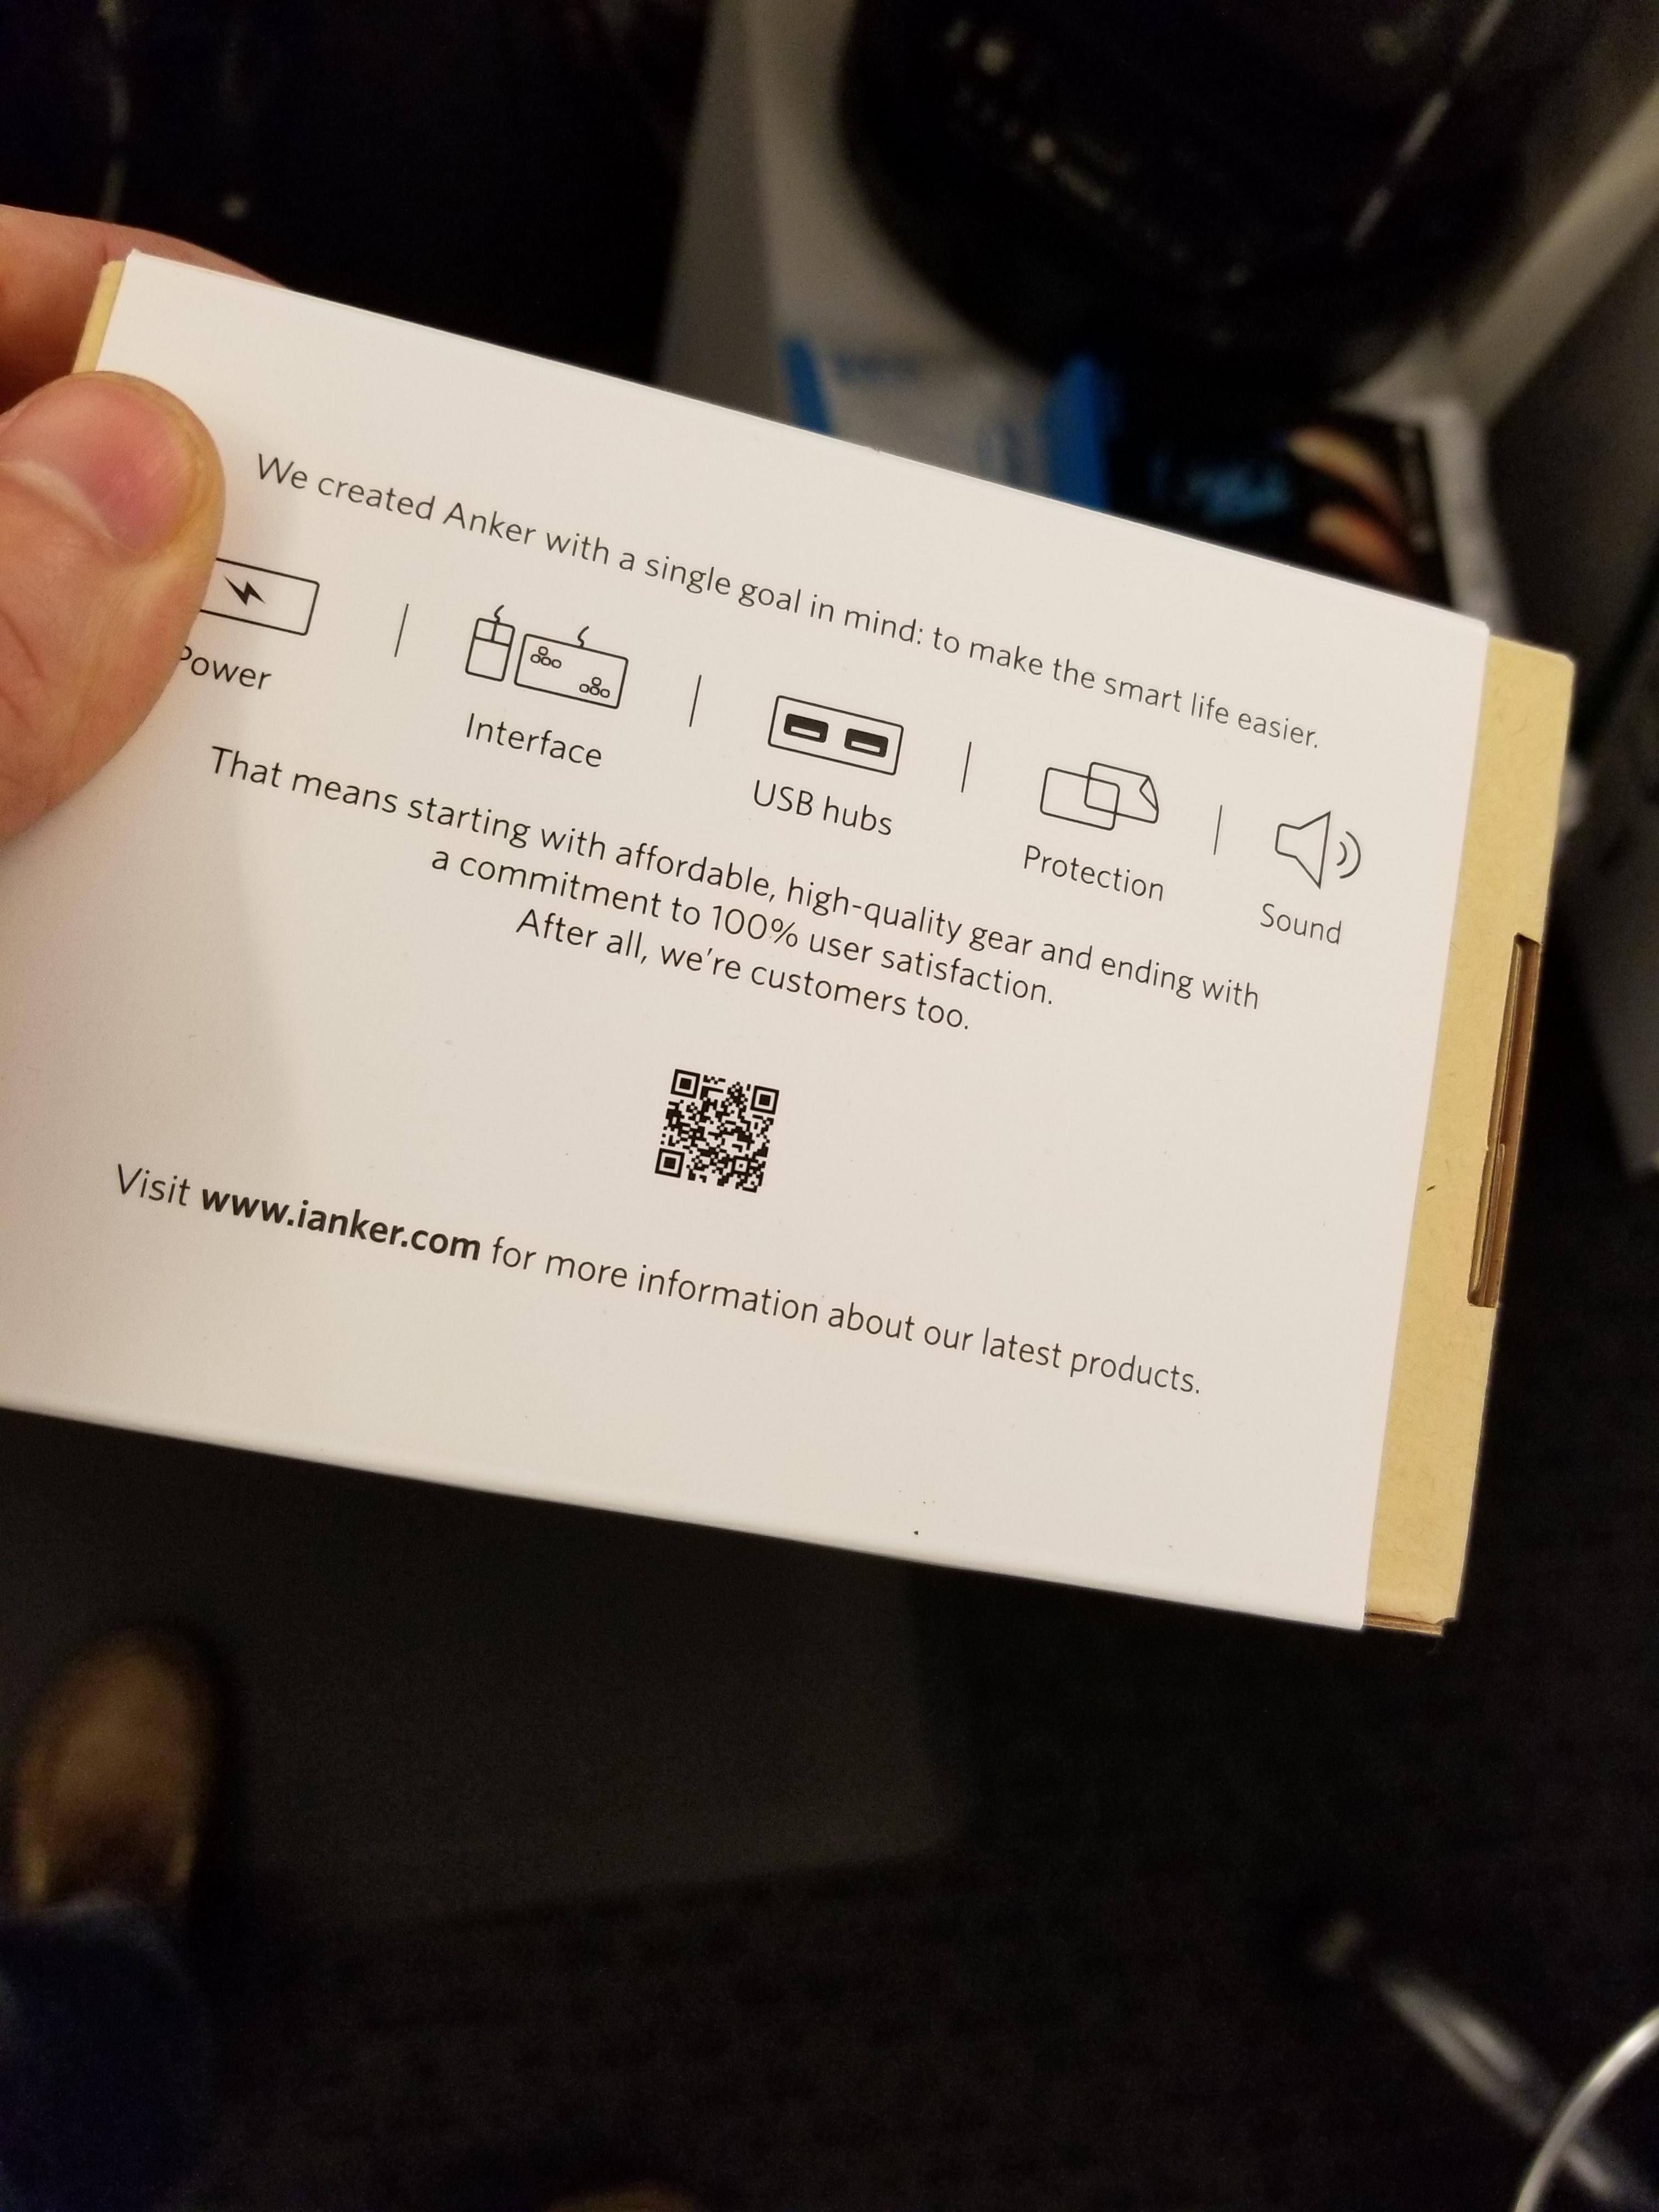QR_CODE: (638, 1031, 805, 1238)
